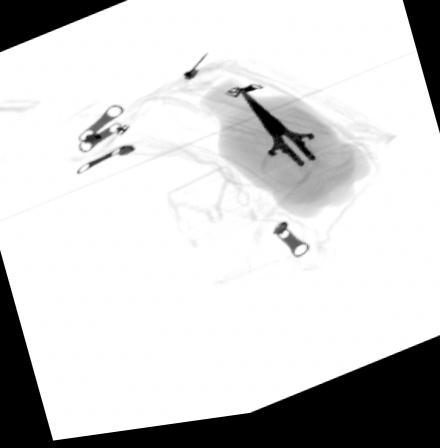Scissors: (238, 92, 357, 197)
